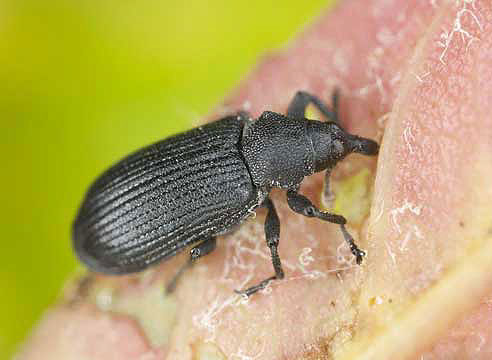dolgonosik: (55, 89, 381, 299)
